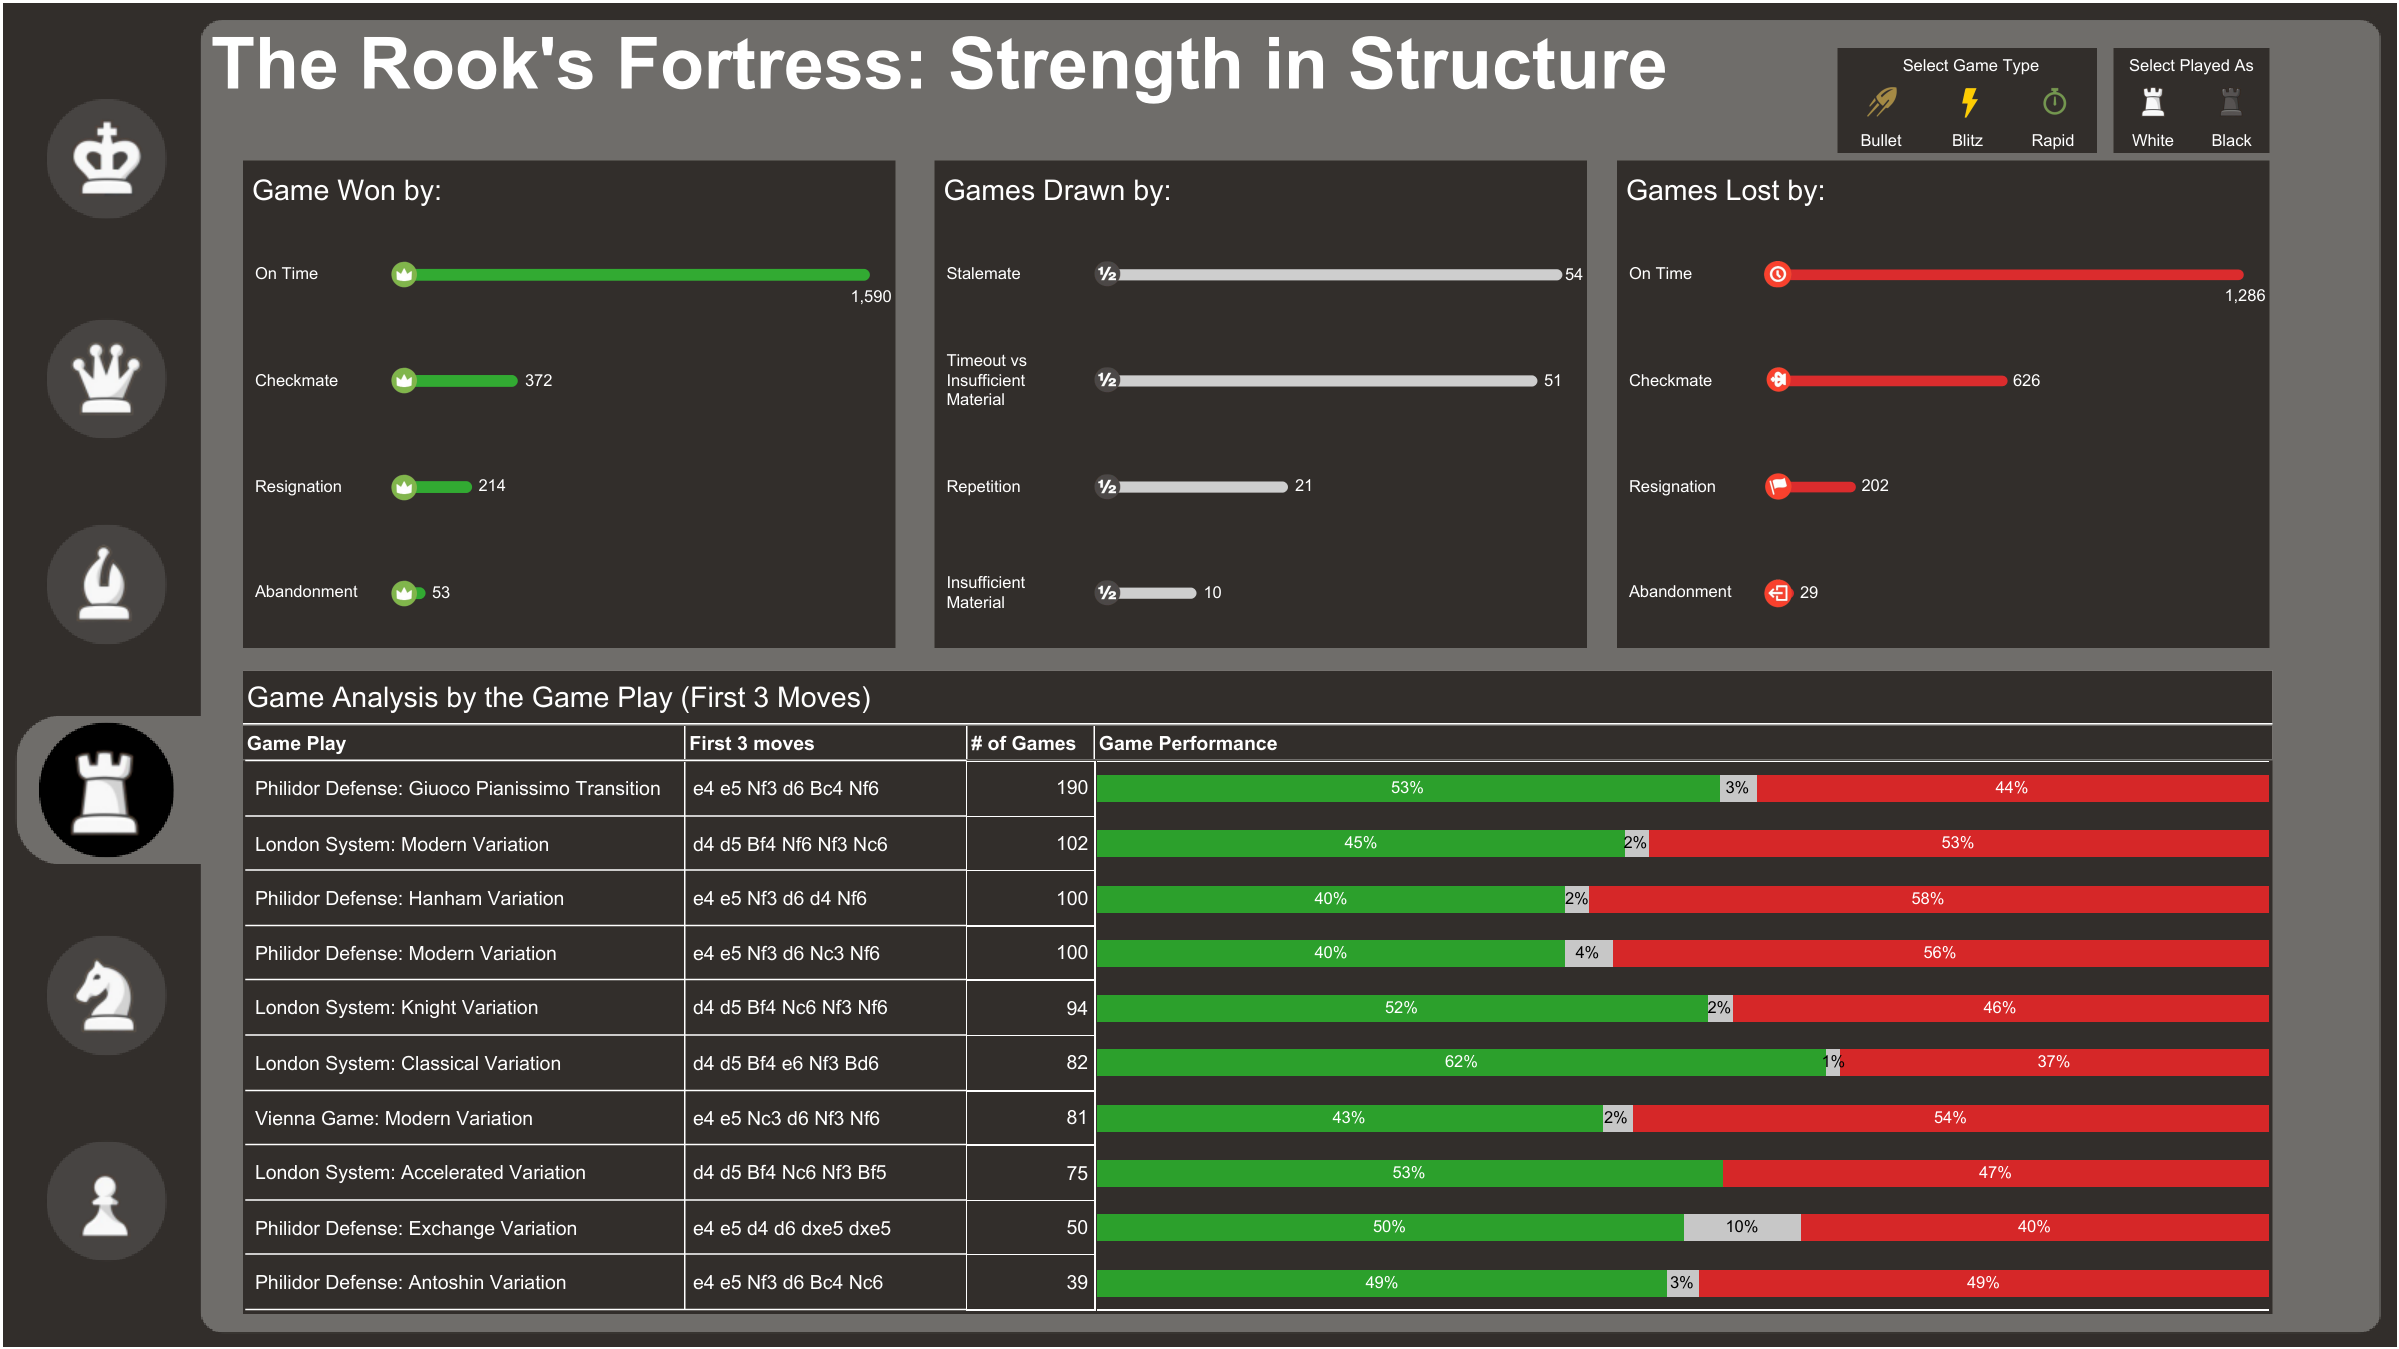

This screenshot's page, from the dashboard's own definition file:
{"tool":"tableau","page":{"name":"Rook","canvas":[1600,900],"ordinal":6},"visuals":[{"type":"image","param":"Image/Nav - 1 (4).png","box":[2,2,1596,896]},{"type":"text","box":[138,8,1009,68]},{"type":"text","box":[1264,28,100,30]},{"type":"text","box":[1411,28,100,30]},{"type":"worksheet","title":"Game Type Filter - Rook","mark":"Shape","cols":["Game_Type"],"box":[1225,32,173,70]},{"type":"worksheet","title":"Played As Filter - Rook","mark":"Shape","cols":["Played_as"],"box":[1409,32,104,70]},{"type":"dashboard-object","box":[42,76,60,60]},{"type":"worksheet","title":"Games Won Reason","mark":"Line","rows":["Reason"],"cols":["Calculation_618119088643248142"],"box":[162,107,435,325]},{"type":"worksheet","title":"Games Drawn Reason","mark":"Line","rows":["Reason"],"cols":["Calculation_618119088643272719"],"box":[623,107,435,325]},{"type":"worksheet","title":"Games Lost Reason","mark":"Line","rows":["Reason"],"cols":["Calculation_618119088643350544"],"box":[1078,107,435,325]},{"type":"dashboard-object","box":[41,222,60,60]},{"type":"dashboard-object","box":[41,359,60,60]},{"type":"image","param":"Image/Rook Text.png","box":[1104,410,420,414]},{"type":"text","box":[162,447,1353,36]},{"type":"text","box":[162,484,295,22]},{"type":"text","box":[457,484,188,22]},{"type":"text","box":[645,484,85,22]},{"type":"text","box":[730,484,785,22]},{"type":"image","param":"Image/Rook_W.png","box":[33,489,75,75]},{"type":"worksheet","title":"Game 3 Moves","mark":"Automatic","rows":["Calculation_5530631486688641061","Opening 3 moves"],"box":[162,507,569,369]},{"type":"worksheet","title":"Game 3 moves 2","mark":"Bar","rows":["Calculation_5530631486688641061"],"box":[731,507,784,369]},{"type":"dashboard-object","box":[41,633,60,60]},{"type":"dashboard-object","box":[41,770,60,60]},{"type":"dashboard-object","box":[1512,793,79,86]}]}

Visuals, with their boxes in screenshot pixels (x1, y1, x2, y2), scaled from the page's 1600x900 canvas onto the 2399x1349 screenshot:
image: [3,3,2396,1346]
text: [207,12,1720,114]
text: [1895,42,2045,87]
text: [2116,42,2266,87]
"Game Type Filter - Rook" worksheet (Shape marks): [1837,48,2096,153]
"Played As Filter - Rook" worksheet (Shape marks): [2113,48,2269,153]
dashboard-object: [63,114,153,204]
"Games Won Reason" worksheet (Line marks): [243,160,895,648]
"Games Drawn Reason" worksheet (Line marks): [934,160,1586,648]
"Games Lost Reason" worksheet (Line marks): [1616,160,2269,648]
dashboard-object: [61,333,151,423]
dashboard-object: [61,538,151,628]
image: [1655,615,2285,1235]
text: [243,670,2272,724]
text: [243,725,685,758]
text: [685,725,967,758]
text: [967,725,1095,758]
text: [1095,725,2272,758]
image: [49,733,162,845]
"Game 3 Moves" worksheet: [243,760,1096,1313]
"Game 3 moves 2" worksheet (Bar marks): [1096,760,2272,1313]
dashboard-object: [61,949,151,1039]
dashboard-object: [61,1154,151,1244]
dashboard-object: [2267,1189,2386,1318]
